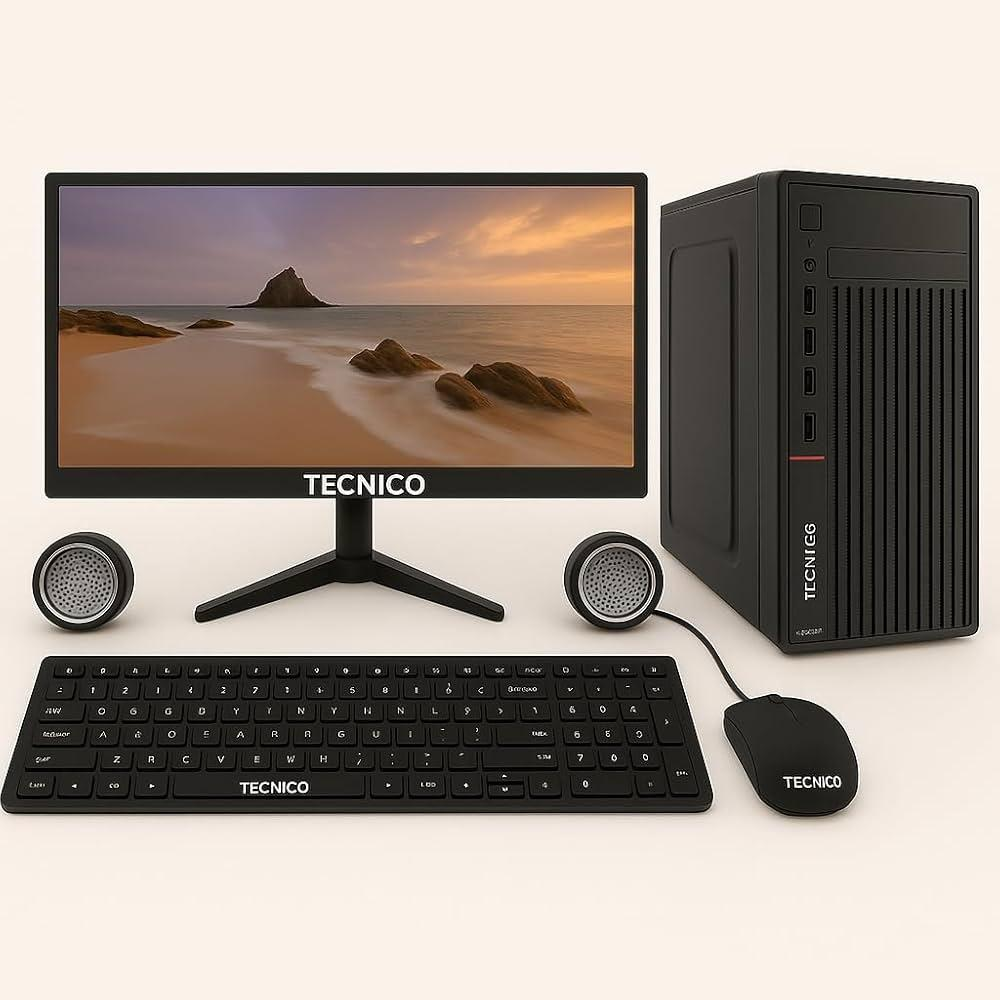keyboard: (3, 655, 720, 822)
monitor: (35, 137, 653, 530)
mouse: (722, 653, 863, 827)
pc: (662, 165, 985, 652)
